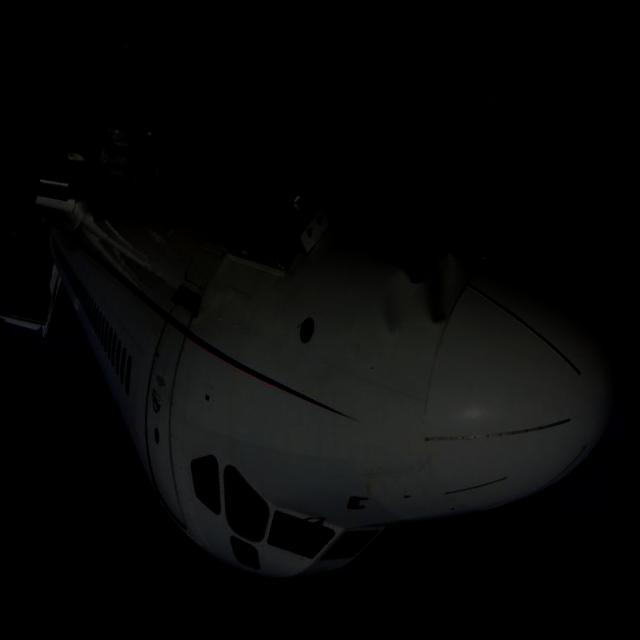dent: (414, 248, 464, 332), (373, 271, 413, 340)
